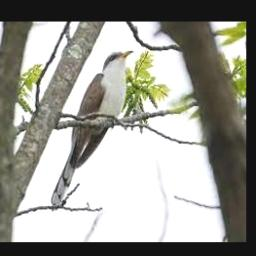Cuckoo: (52, 50, 135, 206)
